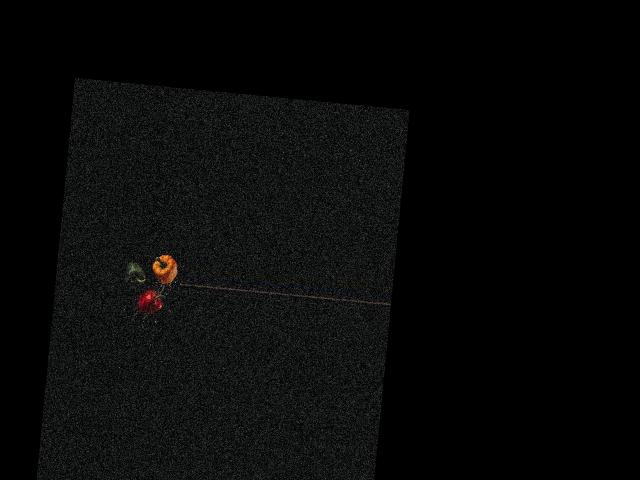bell_pepper: (131, 283, 170, 316)
